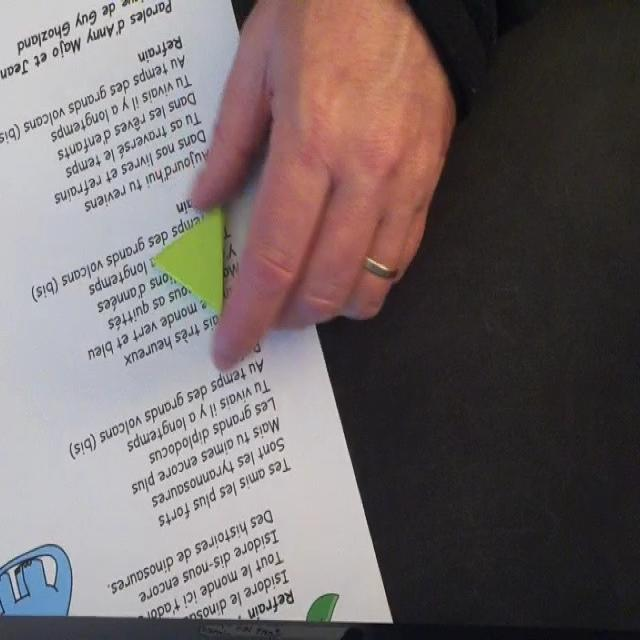triangle: (154, 208, 226, 318)
